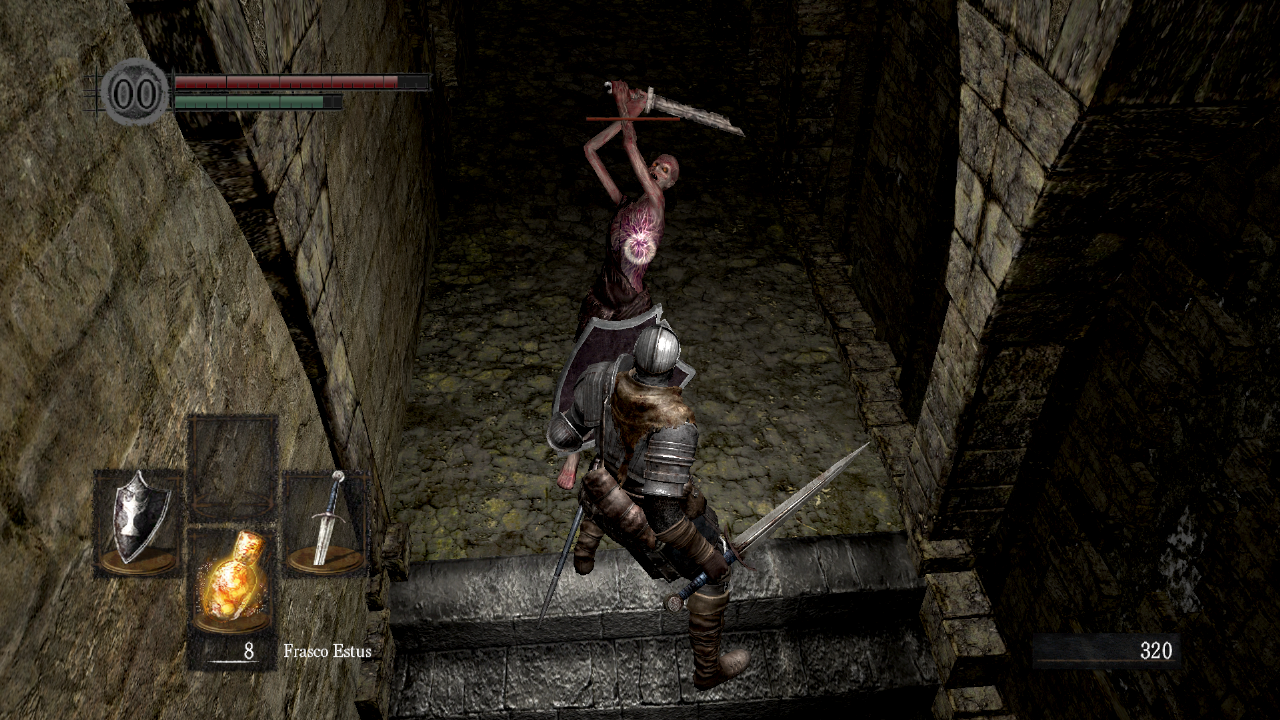hollow: (557, 79, 745, 490)
player: (534, 303, 872, 690)
